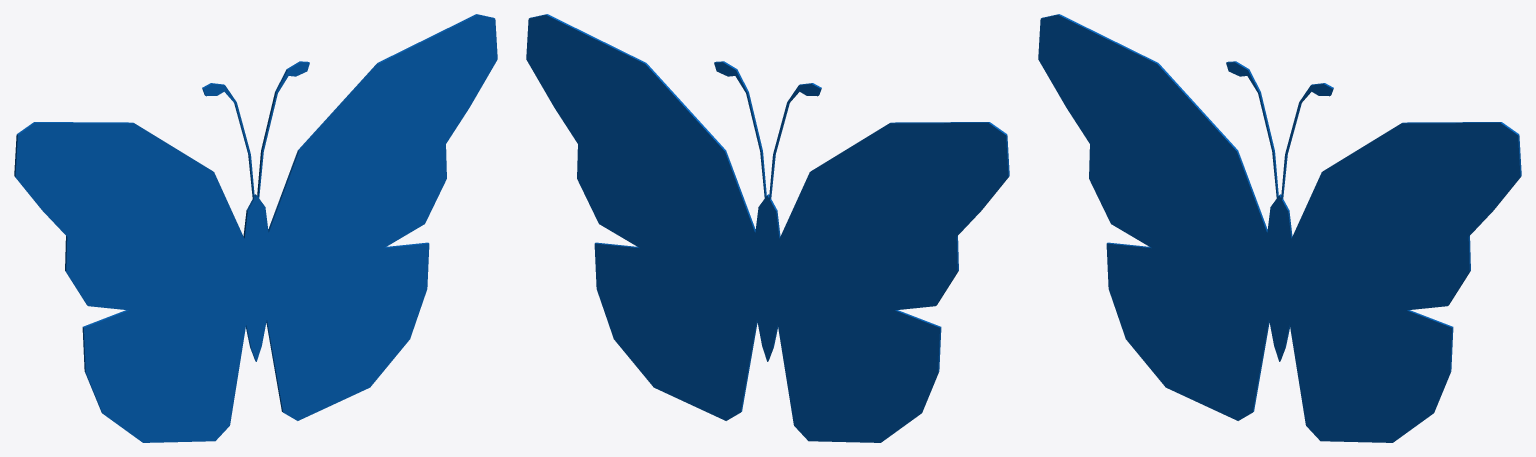
Rendered from prop_051.glb.
3 renders of one model, left to right at view 1: azimuth 30°, elevation 25°; view 2: azimuth 150°, elevation 25°; view 3: azimuth 330°, elevation 25°, orthographic.
Visible parts, largest first — view 1: prop_051; view 2: prop_051; view 3: prop_051.
Part boxes in pixels (left/top/right/bottom): prop_051: left=14, top=14, right=497, bottom=442; prop_051: left=526, top=14, right=1009, bottom=442; prop_051: left=1038, top=14, right=1521, bottom=442.
Size of the model in its own units: 0.4216 by 0.3026 by 0.002.
1 material, 1 textured.
